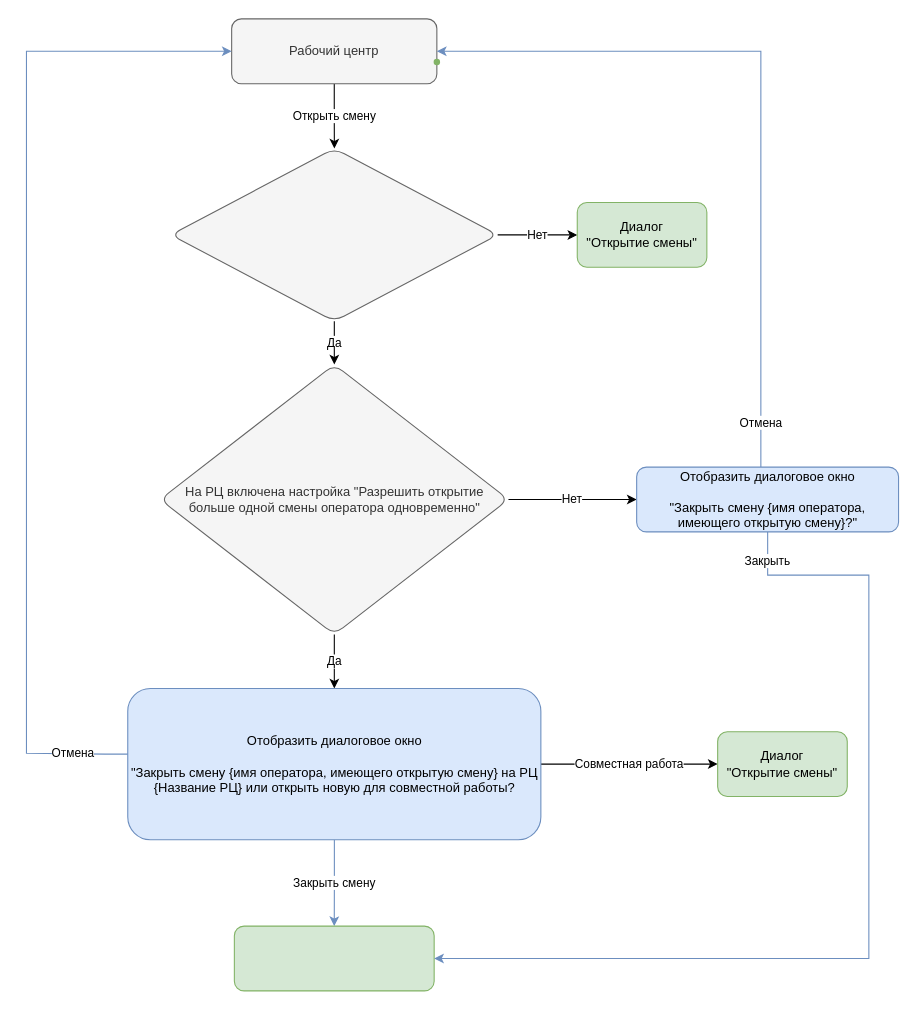
Some shapes in this 918 by 1010 pixel diagram are drawn without their labels. The shapes that lost their labels are listed below. From the top down, each one's centre as x and y in pixels, then its label:
(x=334, y=234): Есть смены других операторов на данном РЦ?
(x=333, y=958): Замена смены (Закрытие других смен на этом РЦ, и сразу же открытие своей смены)
